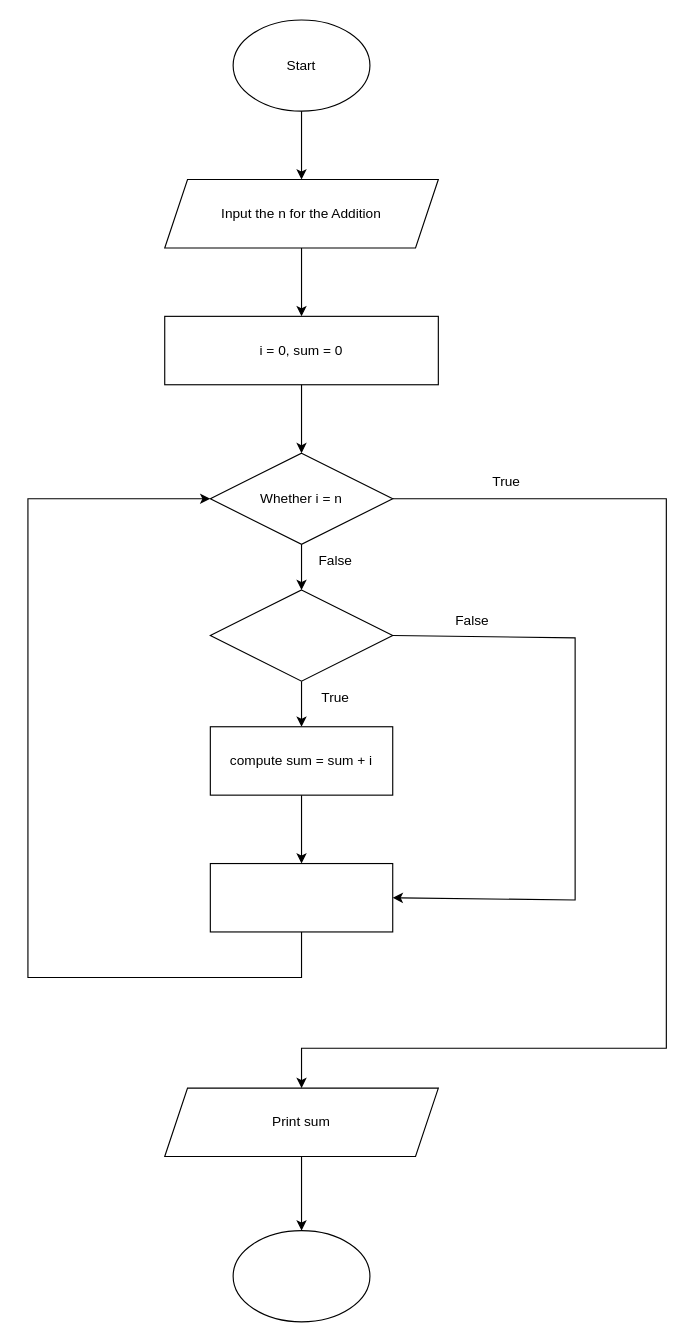
Some shapes in this 695 by 1342 pixel diagram are drawn without their labels. Each missing label, with the centre of its shape:
"End" goes at point (301, 1275).
"i = i + 1" goes at point (301, 897).
"whether i % 2 == 0" goes at point (301, 635).
